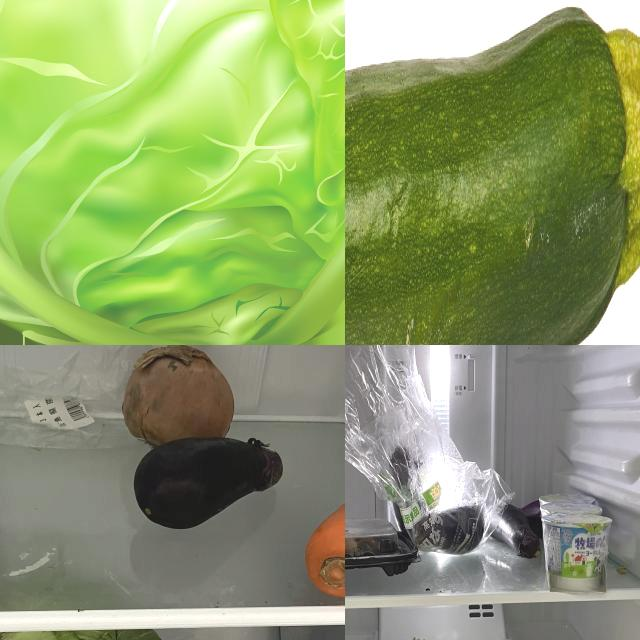cabbage: (1, 1, 346, 346)
carrot: (300, 457, 346, 600)
cucumber: (346, 13, 640, 346)
eggplant: (133, 434, 287, 534), (389, 449, 437, 555), (484, 502, 540, 562), (420, 506, 488, 554), (518, 500, 544, 528)
onion: (121, 346, 238, 449)
